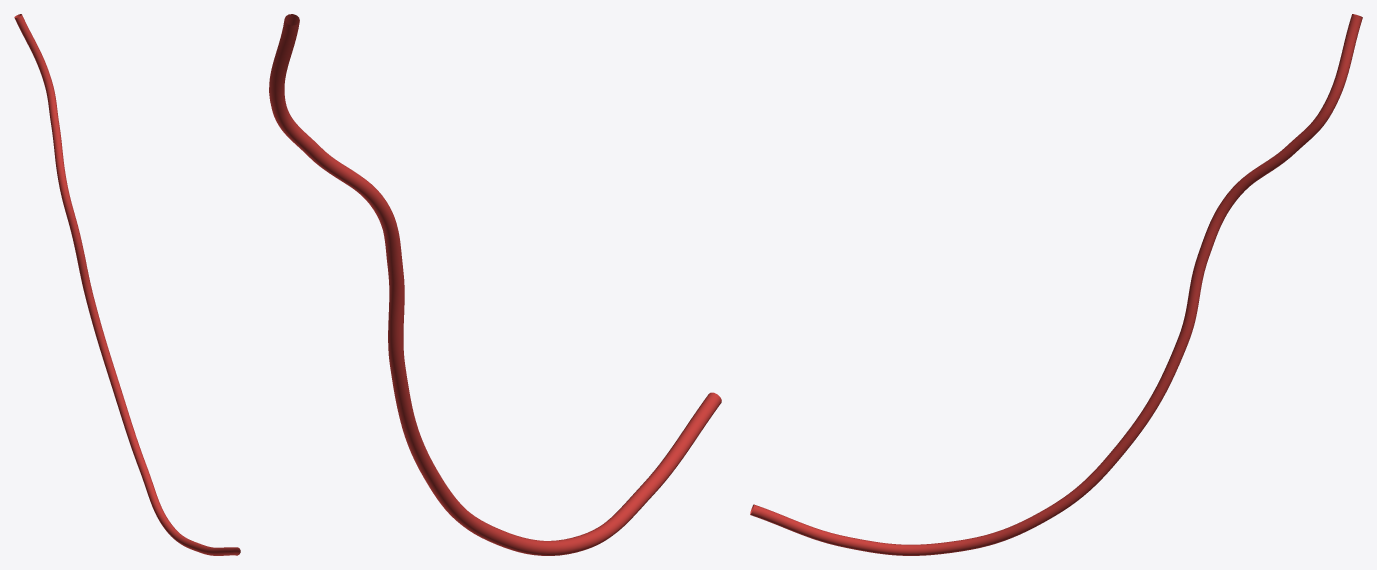
3 renders of one model, left to right at view 1: azimuth 30°, elevation 25°; view 2: azimuth 150°, elevation 25°; view 3: azimuth 270°, elevation 25°, orthographic. The views are drawn at different scales.
Parts seen in each view (by area): view 1: 左侧筛前动脉鼻中隔前支; view 2: 左侧筛前动脉鼻中隔前支; view 3: 左侧筛前动脉鼻中隔前支.
Part boxes in pixels (left/top/right/bottom): 左侧筛前动脉鼻中隔前支: left=14, top=14, right=240, bottom=555; 左侧筛前动脉鼻中隔前支: left=269, top=14, right=721, bottom=555; 左侧筛前动脉鼻中隔前支: left=750, top=14, right=1362, bottom=555.
Bounding box in the file's own units: 0.00255 × 0.0312 × 0.0318.
